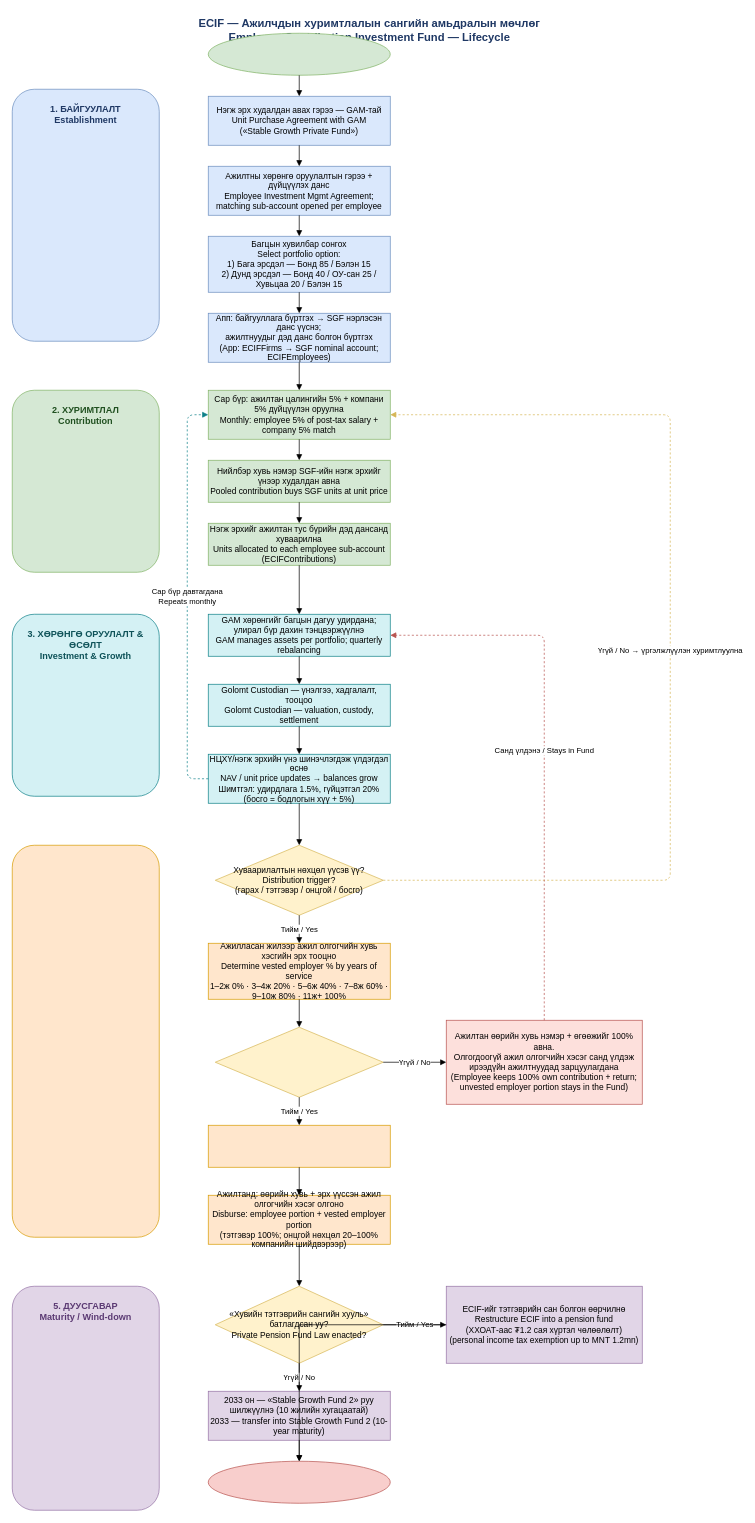
This 755x1523 diagram has some shape labels left out. Each missing label, with the centre of its shape:
"4. ЭРХ ҮҮСЭХ & ХУВААРИЛАЛТ Vesting & Distribution" goes at point (85, 1041).
"Компани хуваарилалтыг батална Company approves distribution" goes at point (299, 1146).
"ТӨГСГӨЛ — ECIF мөчлөг дуусав ECIF lifecycle complete" goes at point (299, 1482).
"Эрх үүсэх нөхцөл хангагдсан уу? Vesting conditions met?" goes at point (299, 1062).
"ЭХЛЭЛ — Компани сайн дурын ECIF байгуулна Company establishes voluntary ECIF" goes at point (299, 54).
